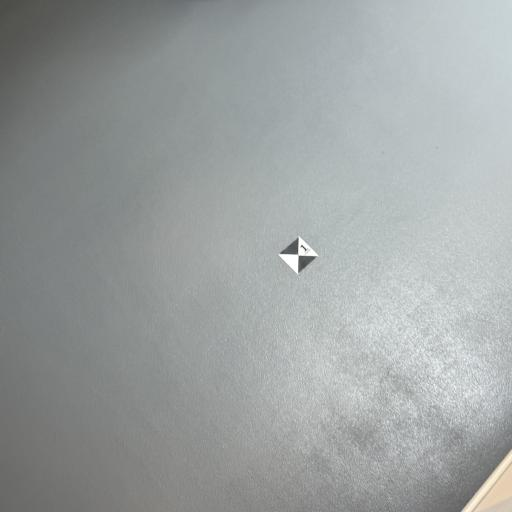target1: (279, 236, 319, 274)
